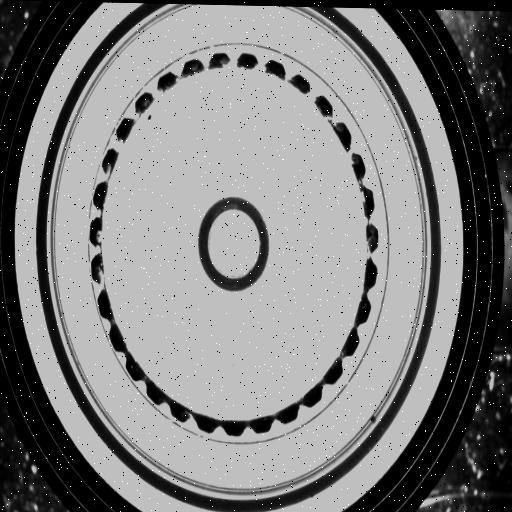gear: (89, 48, 379, 441)
